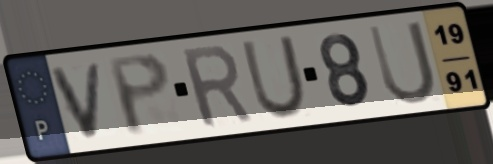8: (318, 32, 374, 110)
P: (103, 50, 173, 140)
R: (177, 41, 257, 132)
U: (364, 17, 440, 109), (238, 32, 310, 122)
V: (47, 58, 107, 142)
